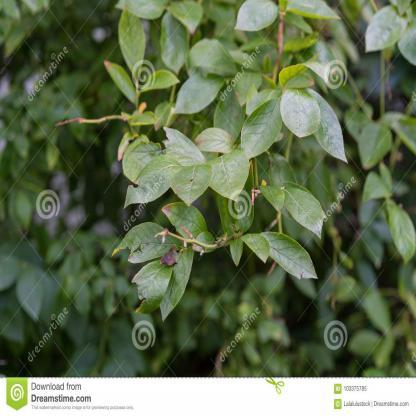Blueberry leaf: (118, 129, 214, 214), (294, 73, 358, 170), (256, 228, 320, 295), (242, 86, 283, 174), (208, 144, 252, 208), (284, 80, 320, 156)
